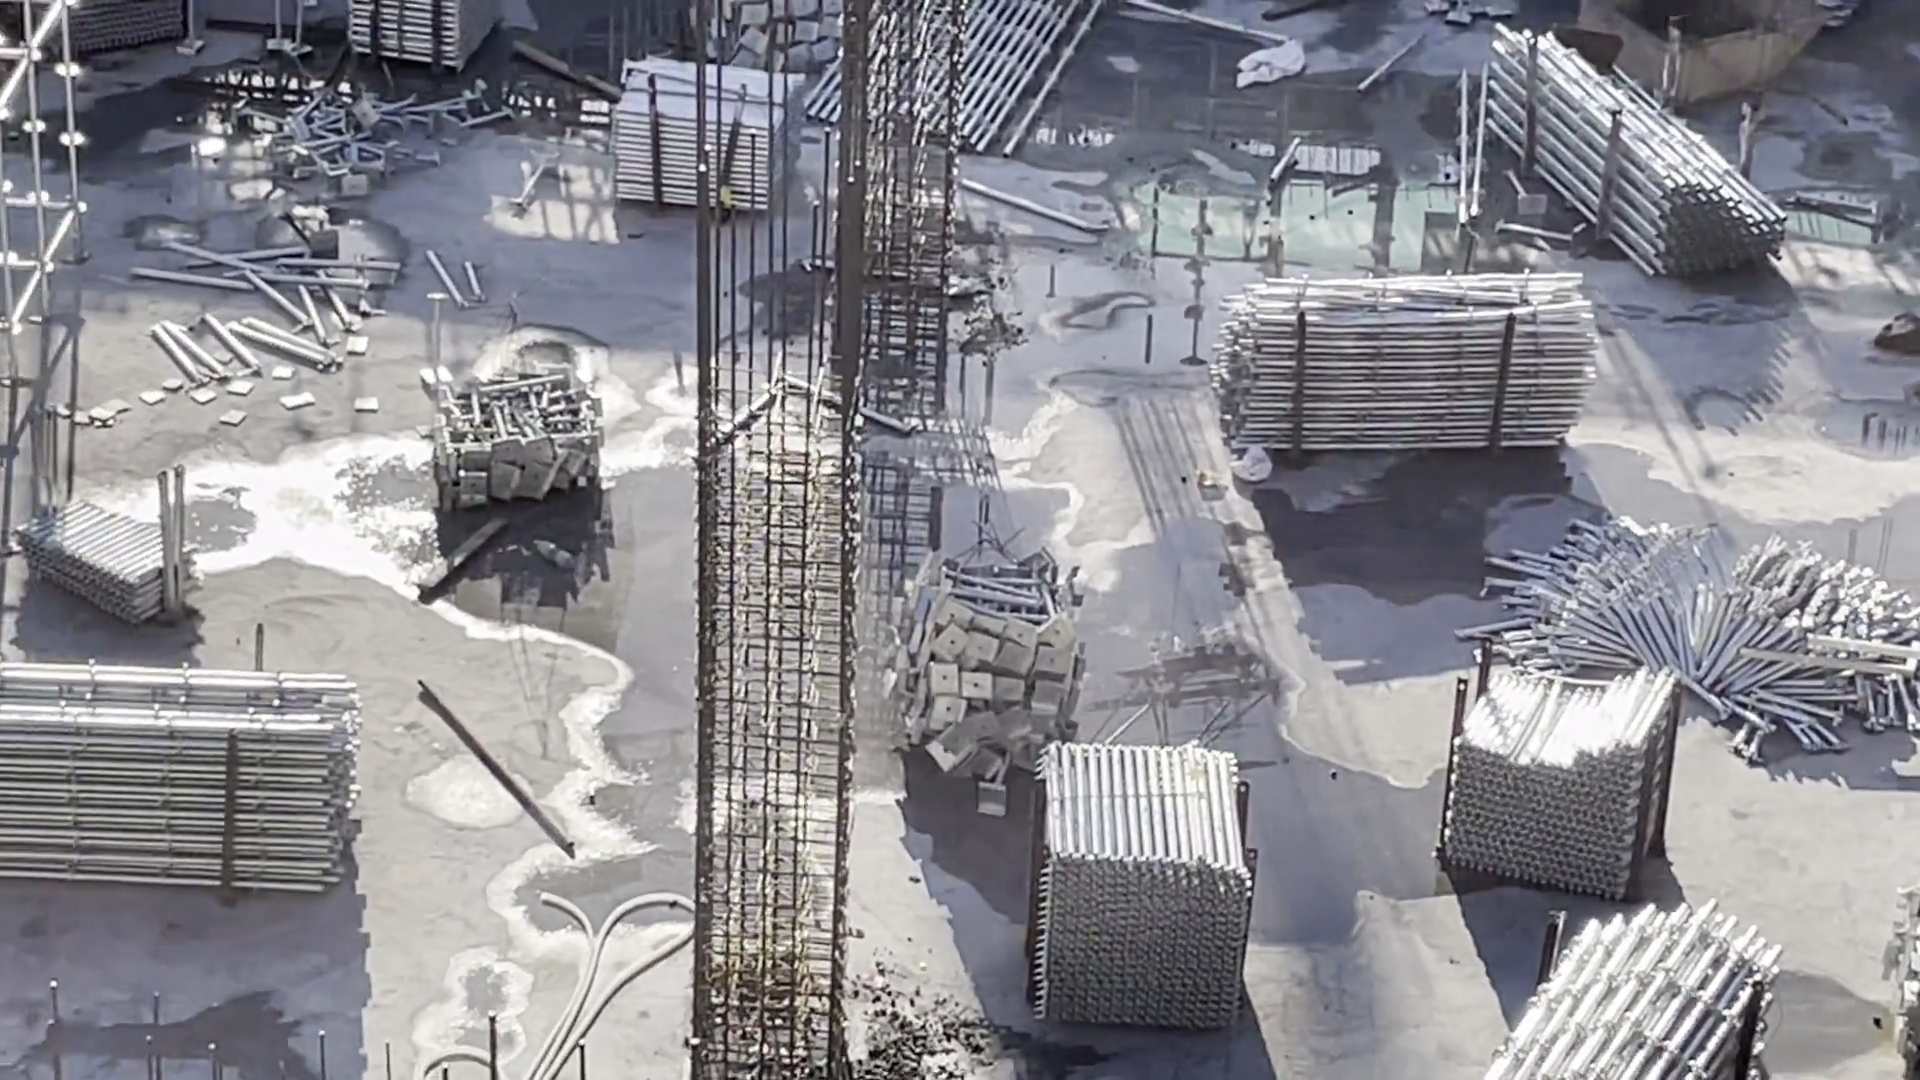hopper: (1578, 1, 1822, 102)
scaffold: (1520, 505, 1909, 742), (1201, 261, 1606, 458), (1, 655, 368, 860), (1487, 32, 1783, 281), (1036, 738, 1255, 1030), (1439, 666, 1654, 916), (1502, 899, 1789, 1080), (914, 556, 1087, 778), (607, 69, 814, 216), (438, 375, 618, 521), (44, 477, 218, 615), (291, 102, 410, 199), (353, 1, 510, 74), (707, 3, 848, 80)
